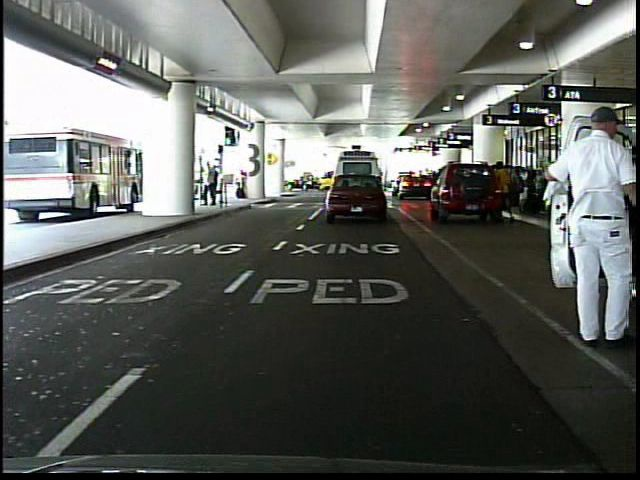person: (538, 100, 636, 353), (582, 149, 611, 224), (498, 157, 517, 223), (202, 155, 219, 209), (236, 165, 253, 202)
